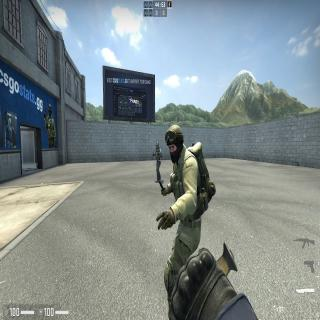CT-Body: (165, 123, 211, 320), (155, 142, 162, 182)
CT-Head: (166, 123, 184, 159), (156, 141, 159, 148)
